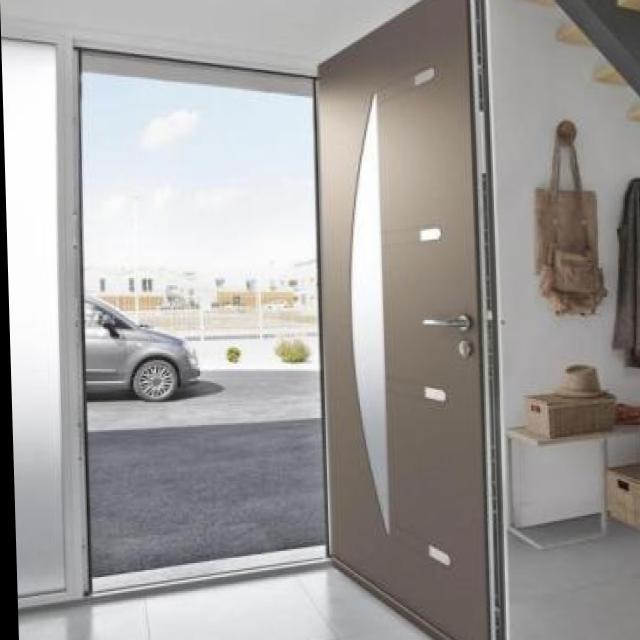door_handle: (408, 311, 471, 338)
